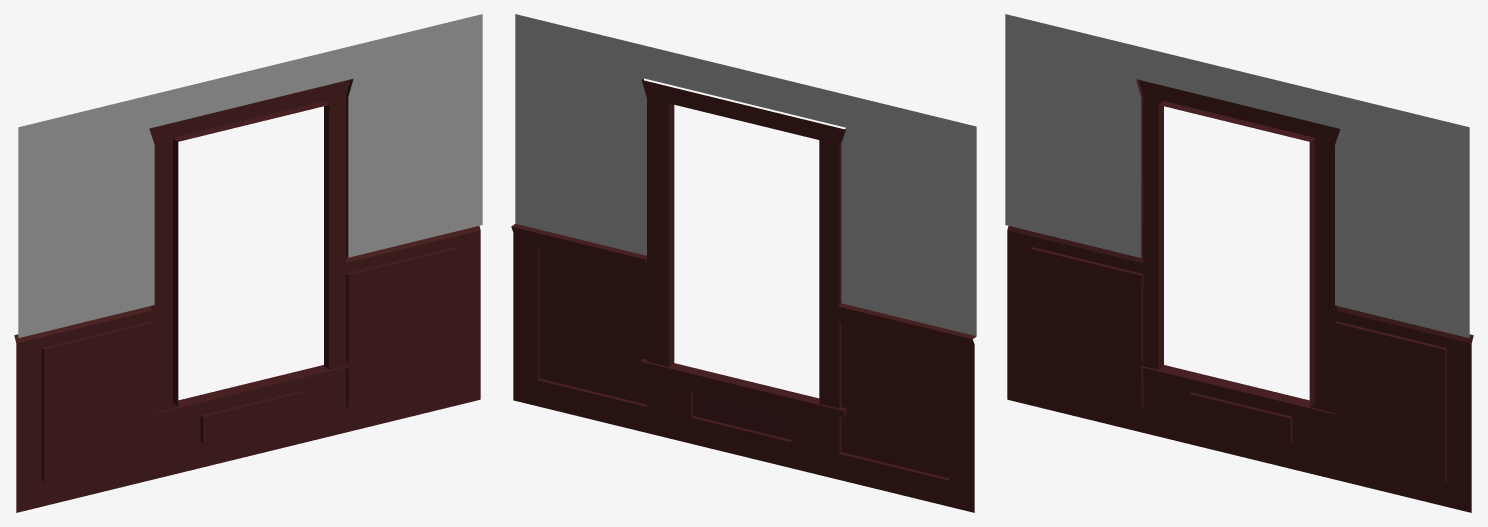
Rendered from LongWindow.fbx.
3 views of the same model, side by side, from view 1: azimuth 30°, elevation 25°; view 2: azimuth 150°, elevation 25°; view 3: azimuth 330°, elevation 25° (orthographic).
Visible parts, largest first — view 1: polySurface25; view 2: polySurface25; view 3: polySurface25.
Part boxes in pixels (x1=…): polySurface25: x1=14, y1=14, x2=482, y2=512; polySurface25: x1=511, y1=14, x2=976, y2=512; polySurface25: x1=1005, y1=14, x2=1473, y2=512.
Bounding box in the file's own units: 4 × 3.19 × 0.1122.
